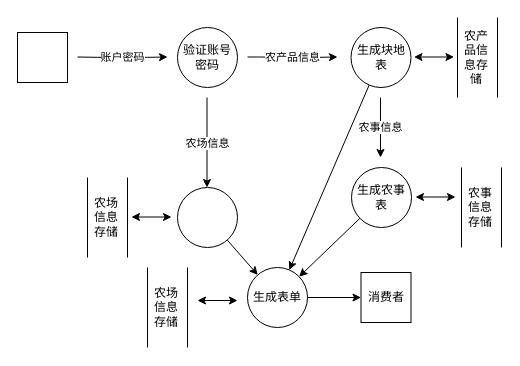
The diagram is 520 pixels wide and 366 high, and some of its shapes have lost their labels. Here are the shapes that lost their labels. From the top down, the centre of each, then its label:
(x=42, y=57): 农户
(x=207, y=217): 农场信息更新
